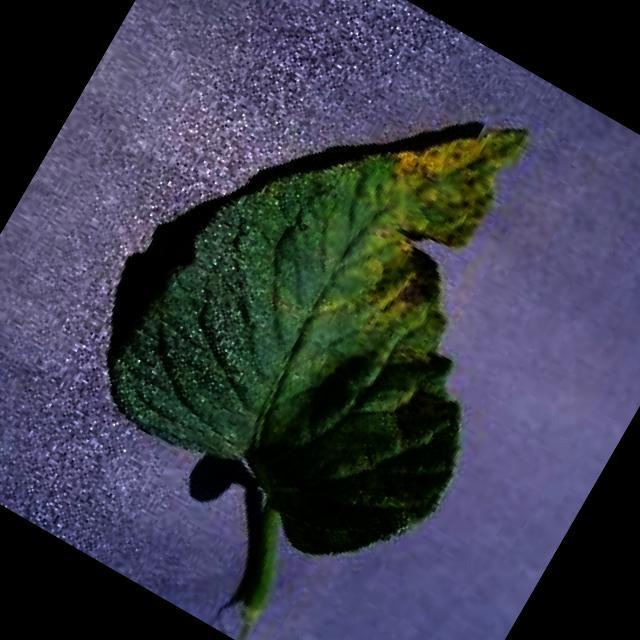Tomato Septoria spot leaf: (71, 4, 624, 602)
